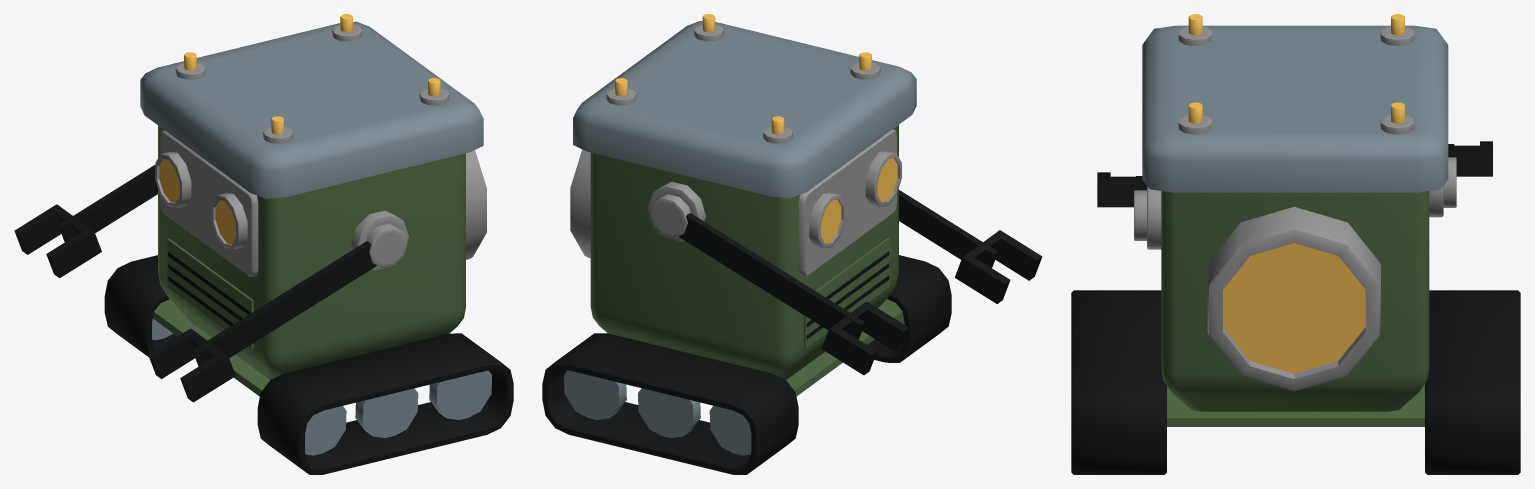
Rendered from GarbageCollector.FBX.
3 renders of one model, left to right at view 1: azimuth 30°, elevation 25°; view 2: azimuth 150°, elevation 25°; view 3: azimuth 270°, elevation 25°, orthographic. The views are drawn at different scales.
Visible parts, largest first — view 1: GarbageCollector; view 2: GarbageCollector; view 3: GarbageCollector.
Part boxes in pixels (x1=…): GarbageCollector: x1=14, y1=14, x2=513, y2=474; GarbageCollector: x1=542, y1=14, x2=1042, y2=474; GarbageCollector: x1=1071, y1=14, x2=1520, y2=474.
Size of the model in its own units: 80.6 by 69.24 by 77.18.
